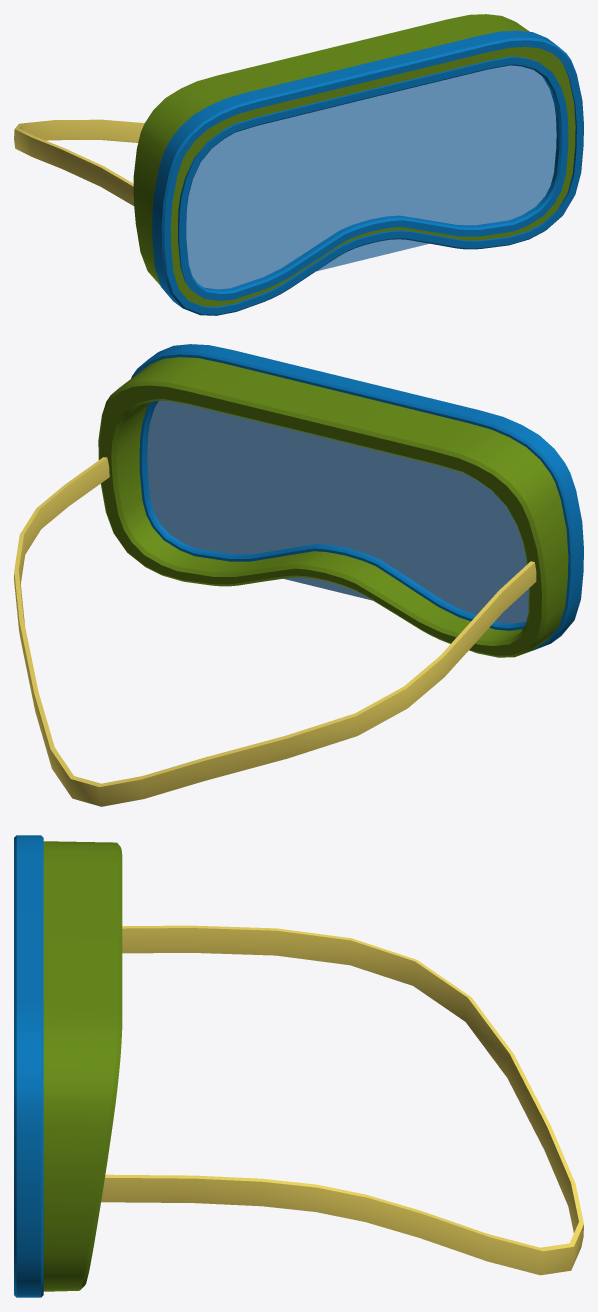
File: DivingGoggles.fbx
3 views of the same model, one above another, from view 1: azimuth 30°, elevation 25°; view 2: azimuth 150°, elevation 25°; view 3: azimuth 270°, elevation 25° (orthographic). The views are drawn at different scales.
Visible parts, largest first — view 1: DivingGoggles; view 2: DivingGoggles; view 3: DivingGoggles.
Boxes of the visible parts, box(x1,y1,x2,y2) form: DivingGoggles: box(14, 14, 583, 315); DivingGoggles: box(14, 344, 583, 806); DivingGoggles: box(14, 835, 583, 1297).
Size of the model in its own units: 20 by 10.92 by 18.13.
